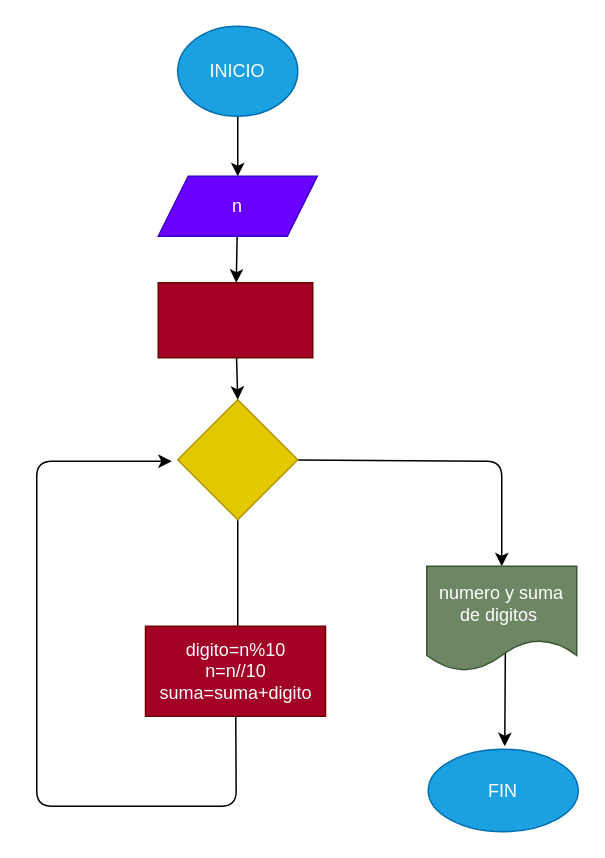
Image size: 605x858. Some labels were removed from this diagram. Each missing label, with the box of its shape:
n!=0: (176, 398, 298, 520)
origin=n suma=0 digito=0: (157, 281, 313, 358)
